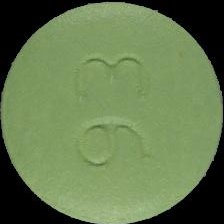67046-645: (0, 0, 224, 224)
